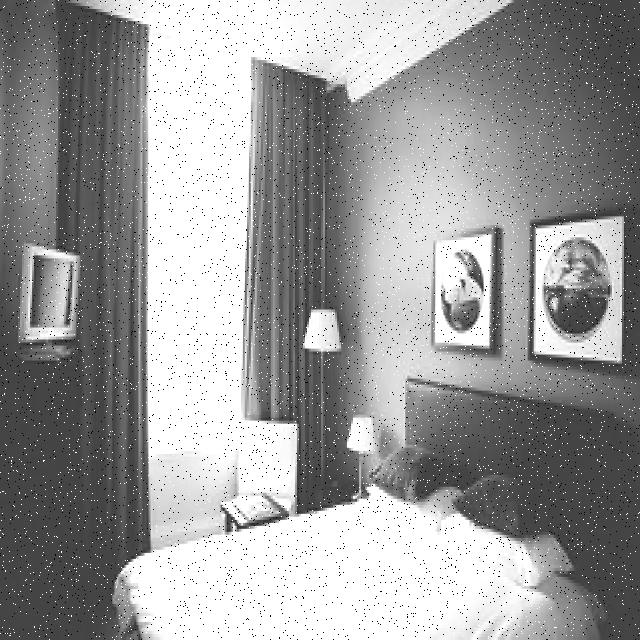bed: (117, 379, 640, 640)
